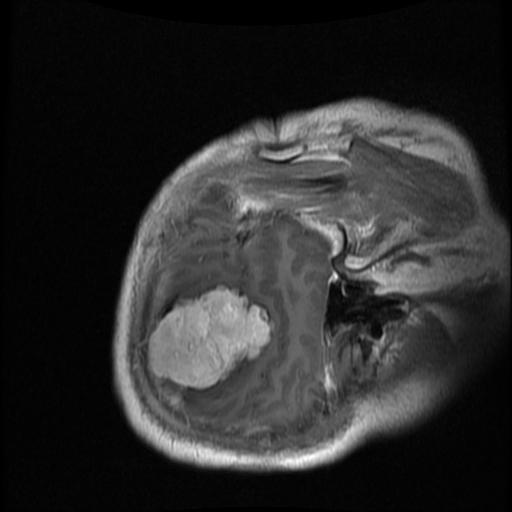meningioma: (148, 287, 271, 389)
